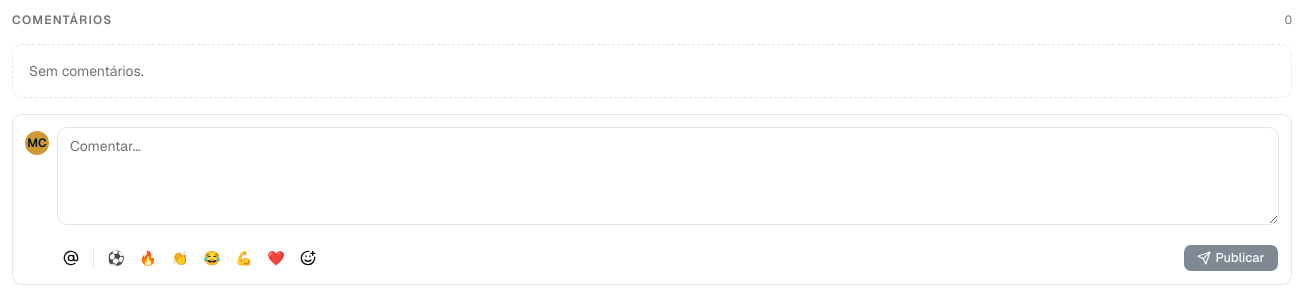
Test case: MatchComments › inserts a selected mention into the composer
Type "@jo" into the text box named "Comentário" at (668, 176), box x1=57 y1=127 x2=1279 y2=225
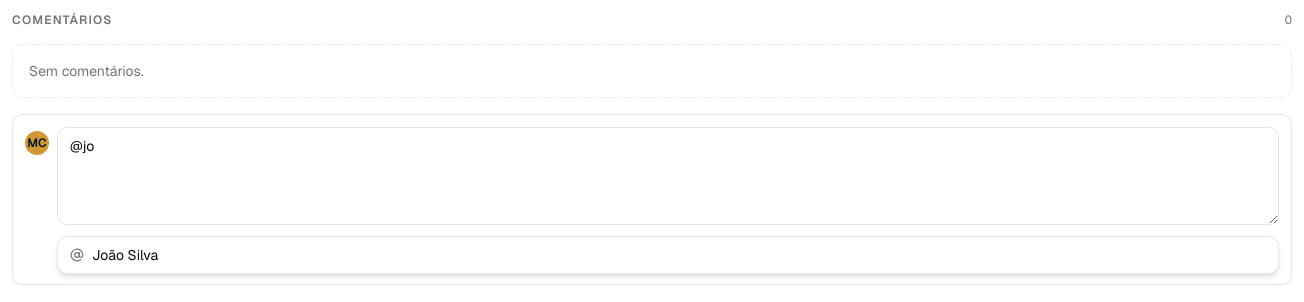
Click the button "João Silva" at (125, 255), box x1=58 y1=237 x2=1278 y2=273
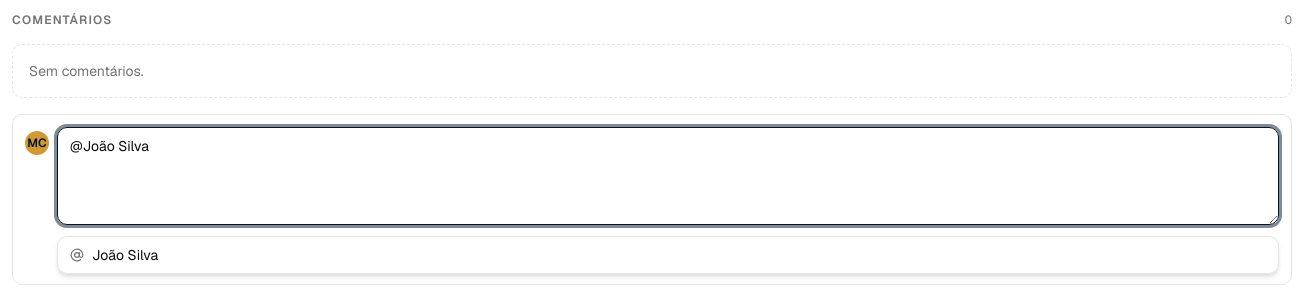
Expected: the text box named "Comentário" holds "@João Silva ", x1=57 y1=127 x2=1279 y2=225
